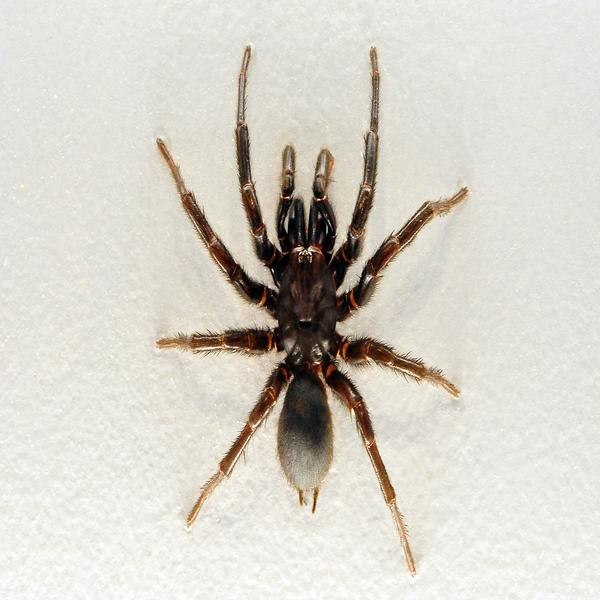Funnel Web Spider: (158, 44, 468, 568)
